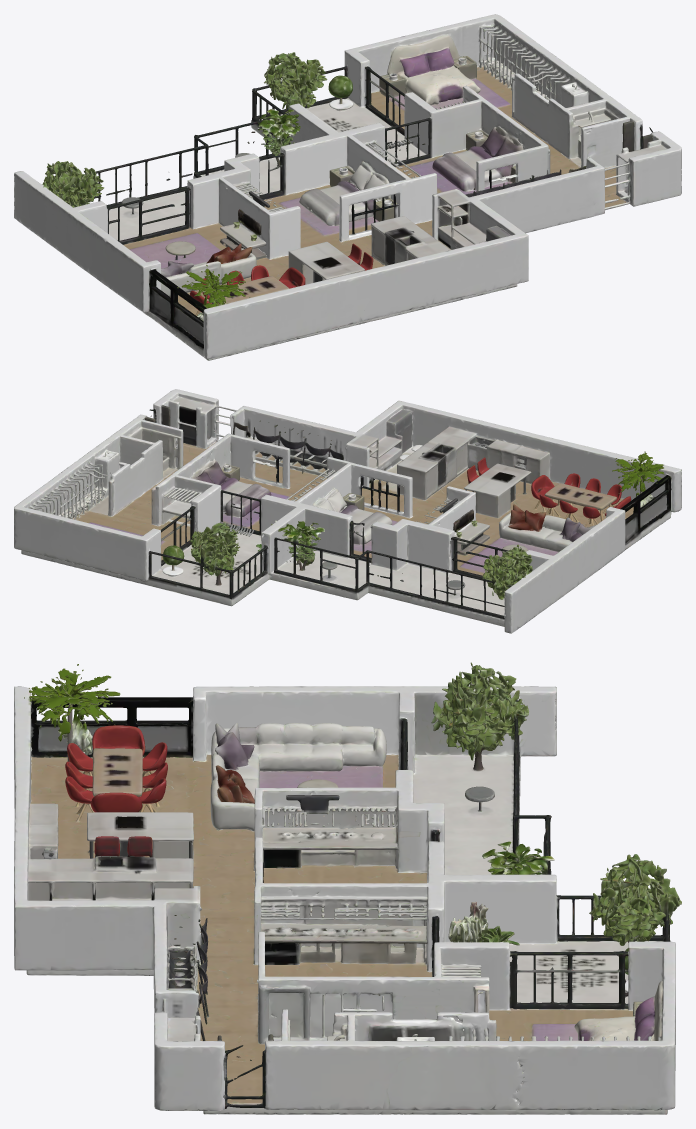
Rendered from trellis_test.glb.
3 views of the same model, one above another, from view 1: azimuth 30°, elevation 25°; view 2: azimuth 150°, elevation 25°; view 3: azimuth 270°, elevation 25° (orthographic). The views are drawn at different scales.
Parts seen in each view (by area): view 1: world; view 2: world; view 3: world.
Part boxes in pixels (x1=…): world: x1=14, y1=14, x2=681, y2=360; world: x1=14, y1=389, x2=681, y2=633; world: x1=14, y1=662, x2=681, y2=1114.
Size of the model in its own units: 0.9938 by 0.1453 by 0.7759.
1 material, 1 textured.
